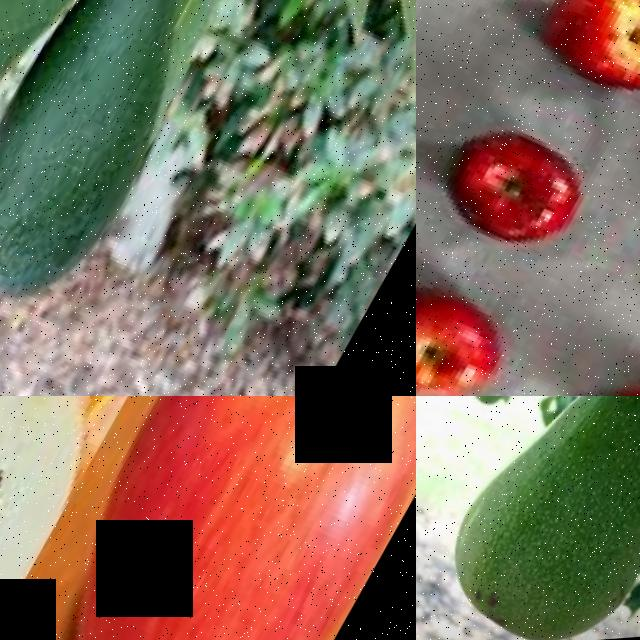apple: (0, 396, 416, 640), (416, 99, 614, 283), (0, 396, 143, 640), (416, 246, 541, 396), (513, 0, 640, 136)
avocado: (0, 0, 265, 336), (425, 396, 640, 640)
